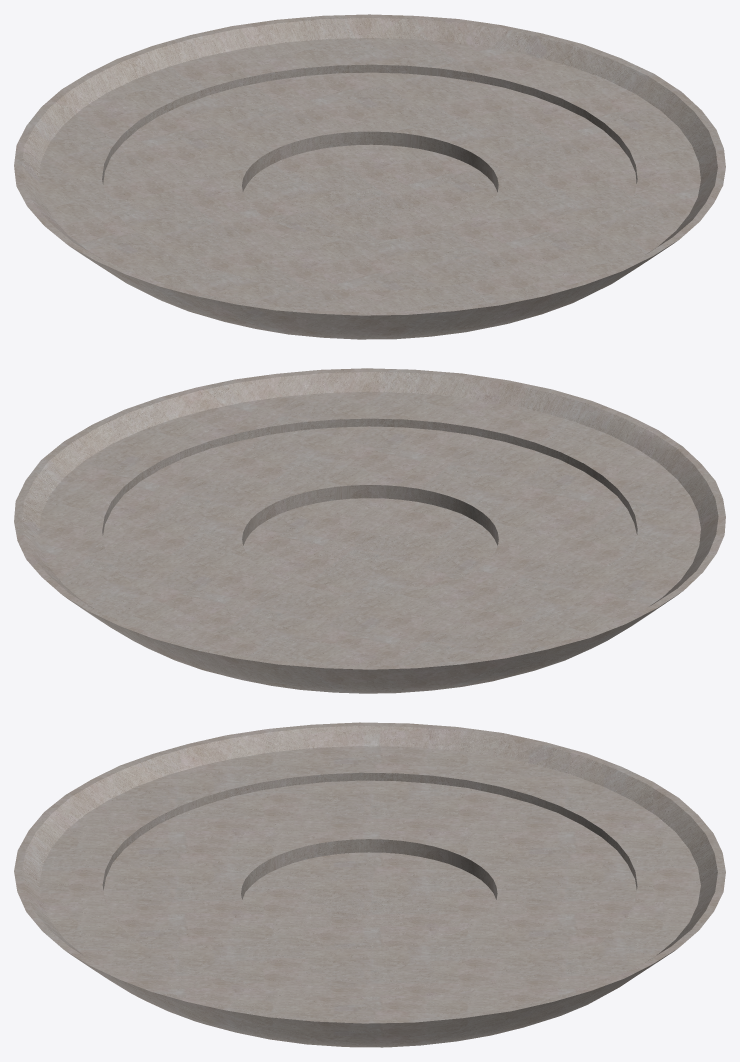
Rendered from SuiteBase.fbx.
3 renders of one model, top to bottom at view 1: azimuth 30°, elevation 25°; view 2: azimuth 150°, elevation 25°; view 3: azimuth 270°, elevation 25°, orthographic.
Visible parts, largest first — view 1: Floor; view 2: Floor; view 3: Floor.
Boxes of the visible parts, x1,y1,x2,y2 form: Floor: (14,14,725,339); Floor: (14,368,725,693); Floor: (14,722,725,1047).
Bounding box in the file's own units: 16841 × 3099 × 16829.
Materials: 1 (1 with a texture image).
